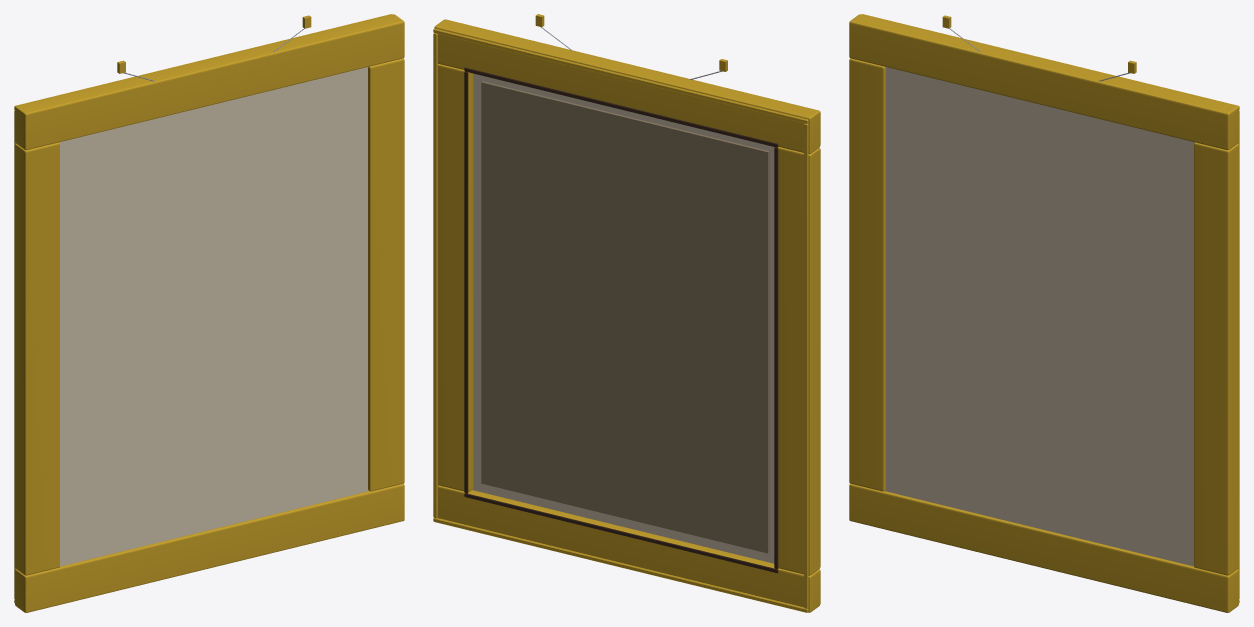
The model's file is prop_canvas_widow.glb.
3 renders of one model, left to right at view 1: azimuth 30°, elevation 25°; view 2: azimuth 150°, elevation 25°; view 3: azimuth 330°, elevation 25°, orthographic.
Visible parts, largest first — view 1: Canvas; view 2: Paint, Canvas; view 3: Canvas.
Boxes of the visible parts, box(x1,y1,x2,y2) form: Canvas: box(14, 14, 404, 612); Paint: box(481, 81, 769, 553); Canvas: box(433, 19, 820, 612); Canvas: box(849, 14, 1239, 612).
Size of the model in its own units: 1.17 by 1.55 by 0.068.
